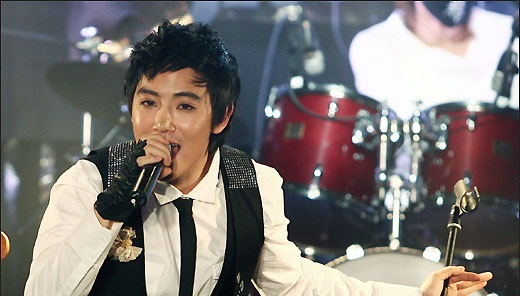face: (131, 71, 209, 177)
